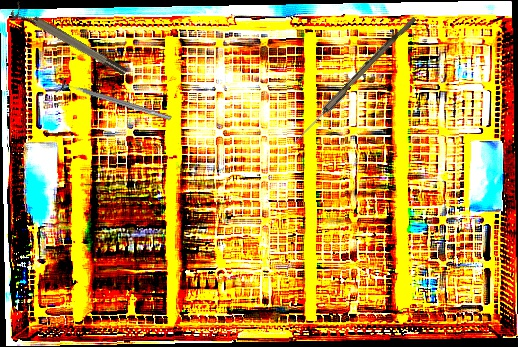Fixation Ring: (9, 0, 129, 83), (53, 74, 175, 128)
Surgical Spoon: (291, 13, 417, 148)
